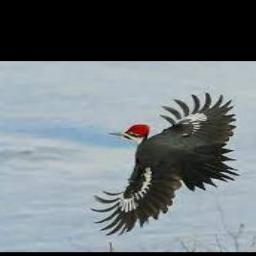Woodpecker: (89, 91, 240, 235)
